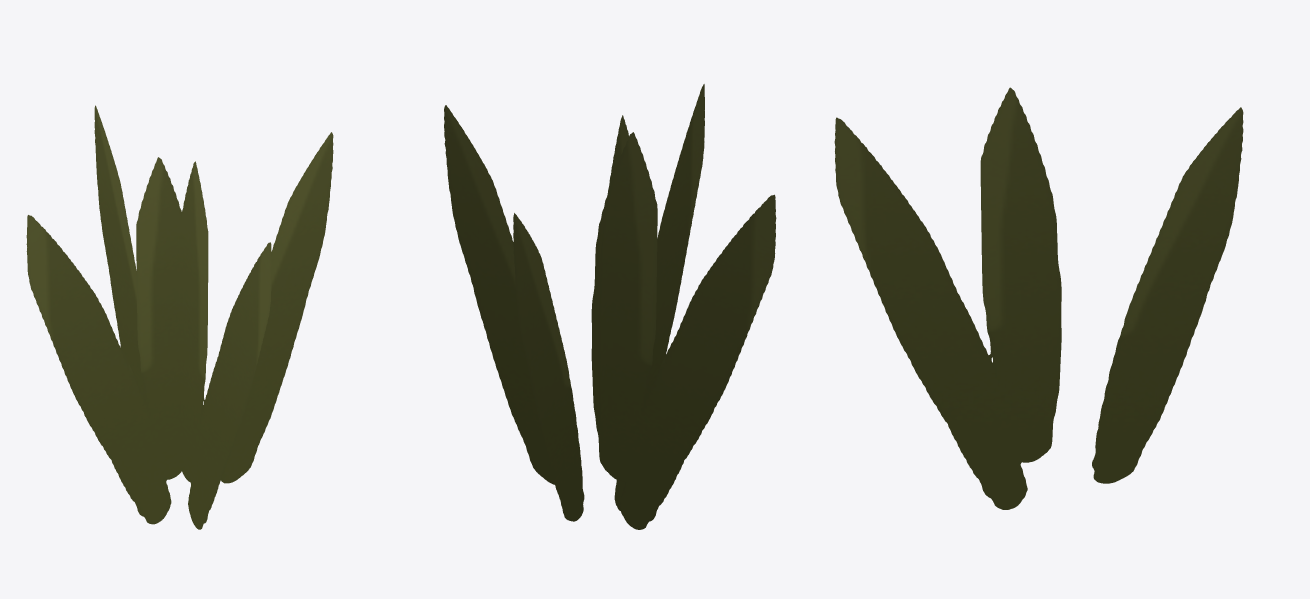
The model's file is grass_1.fbx.
3 views of the same model, side by side, from view 1: azimuth 30°, elevation 25°; view 2: azimuth 150°, elevation 25°; view 3: azimuth 270°, elevation 25° (orthographic). The views are drawn at different scales.
Parts seen in each view (by area): view 1: Grass-1; view 2: Grass-1; view 3: Grass-1.
Boxes of the visible parts, left/top/right/bottom form: Grass-1: left=26, top=105, right=333, bottom=529; Grass-1: left=444, top=84, right=776, bottom=529; Grass-1: left=834, top=87, right=1243, bottom=509.
Size of the model in its own units: 13.13 by 15.18 by 13.13.
1 material, 1 textured.
